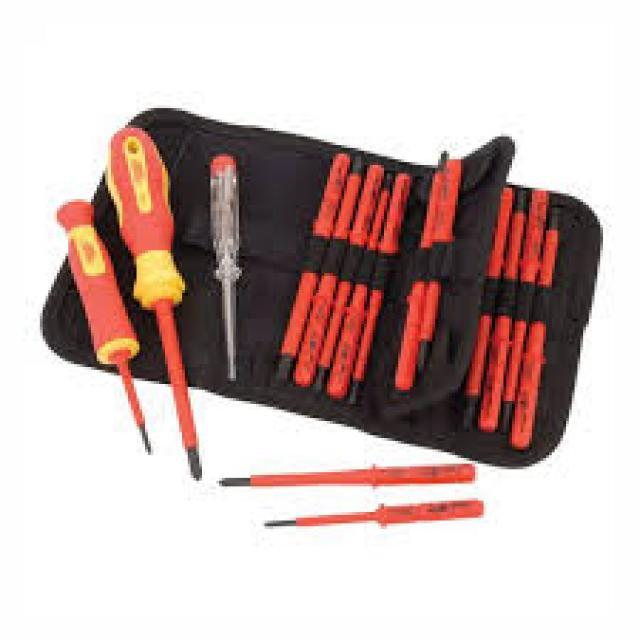screwdriver: (105, 125, 208, 484), (60, 196, 156, 461)
